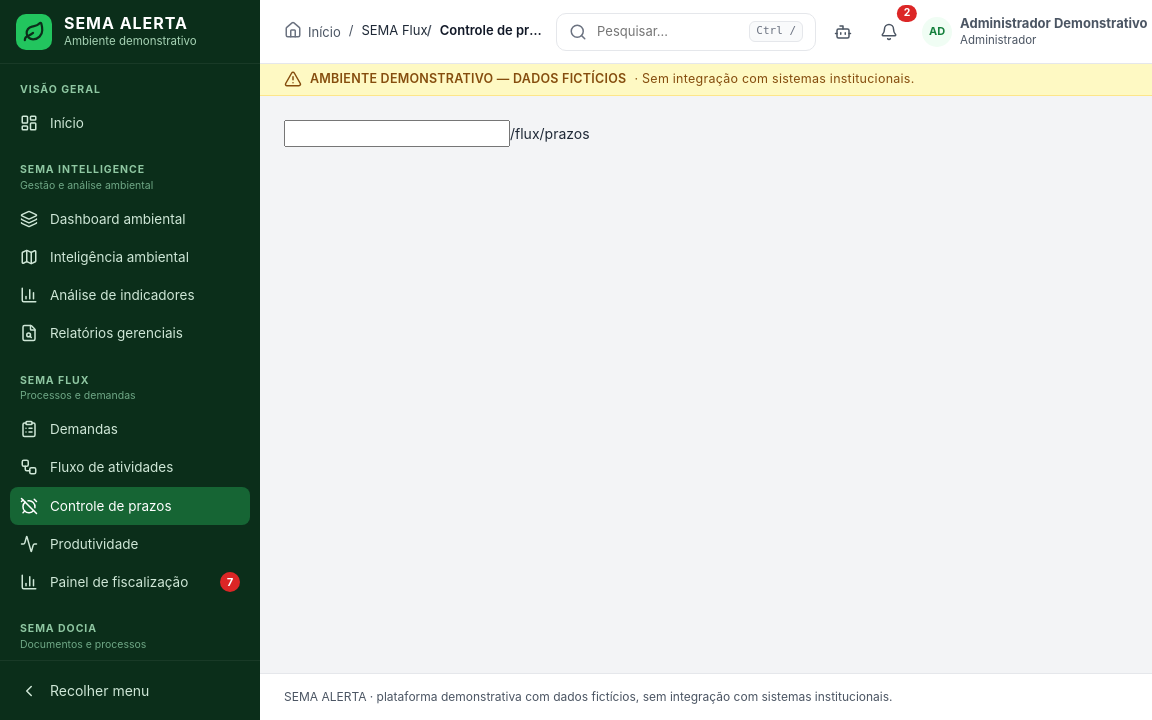
Test case: Assistente Global › fechar a gaveta aborta a requisição em andamento
The image size is (1152, 720).
Type keys "{Control>}k{/Control}"
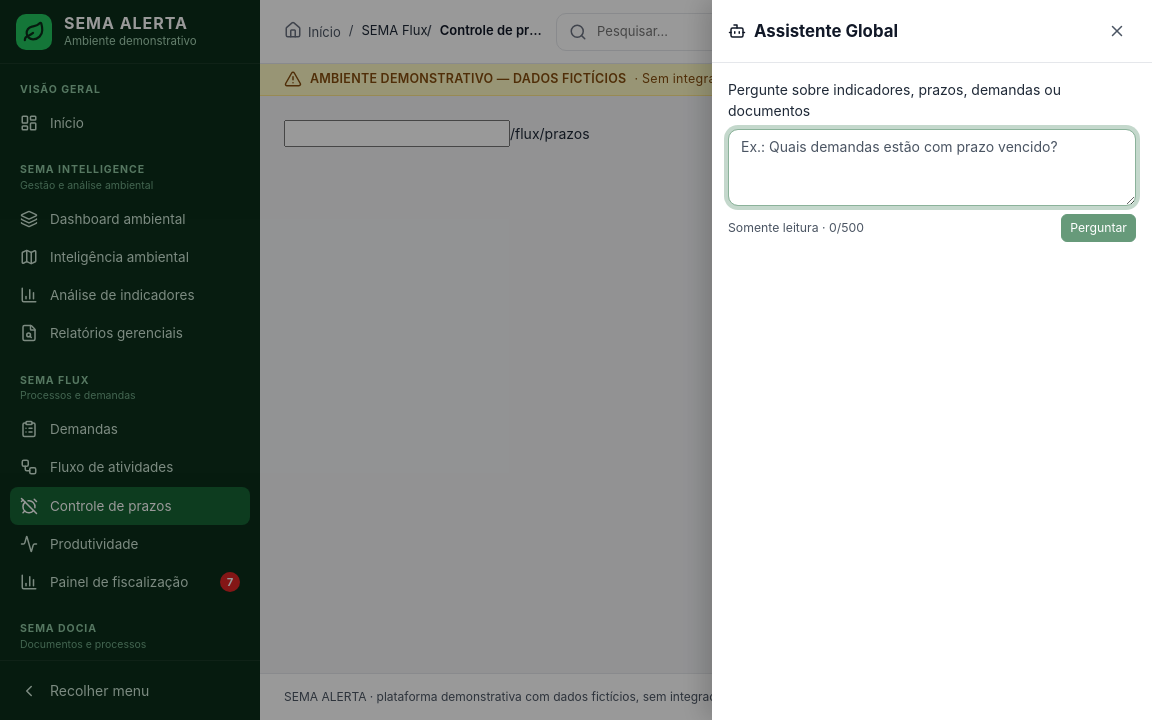
Type "lento" into the text box labelled "Pergunte sobre indicadores, prazos, demandas ou documentos".
click(932, 168); type("lento")  # box [728,129,1136,206]
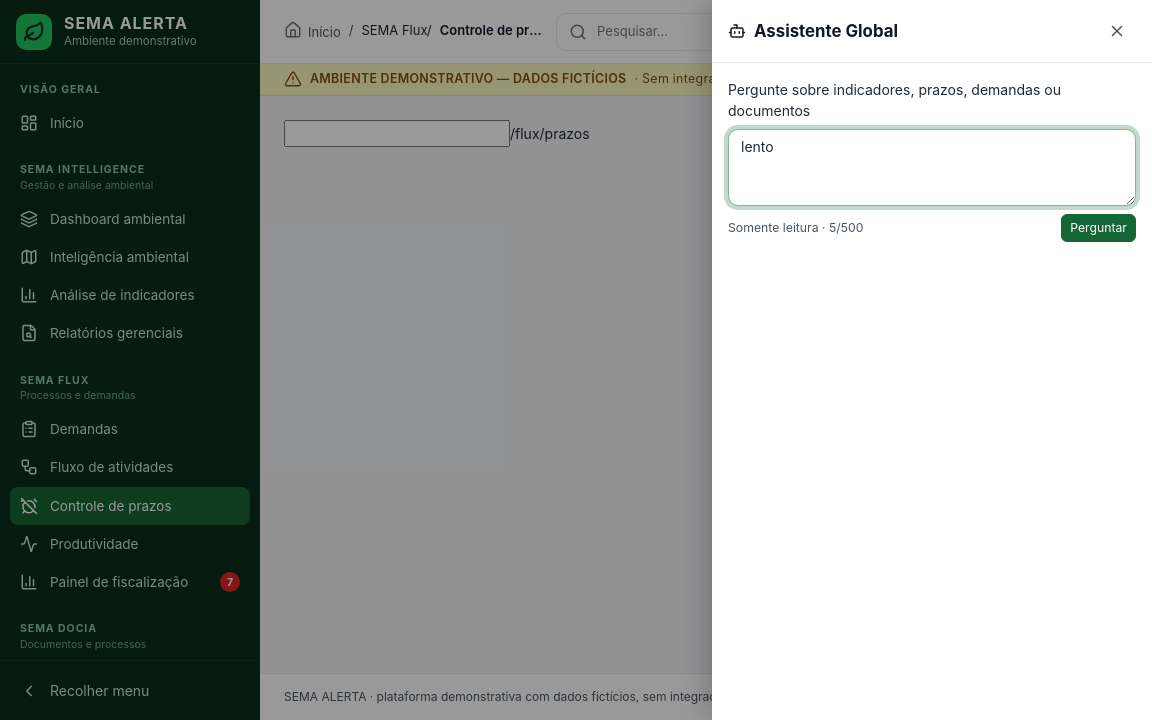
Click the button "Perguntar".
click(1099, 228)  # box [1061,214,1136,242]
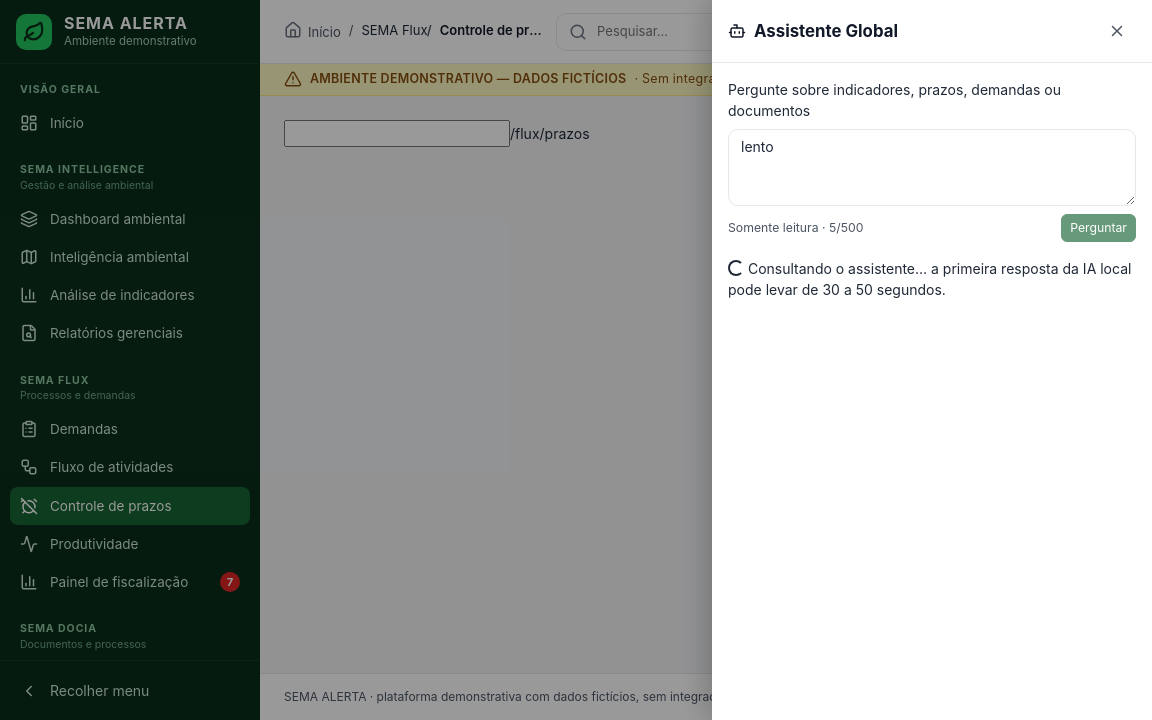
Now the text "30 a 50 segundos" is shown, box [728,260,1131,298]
Press Escape
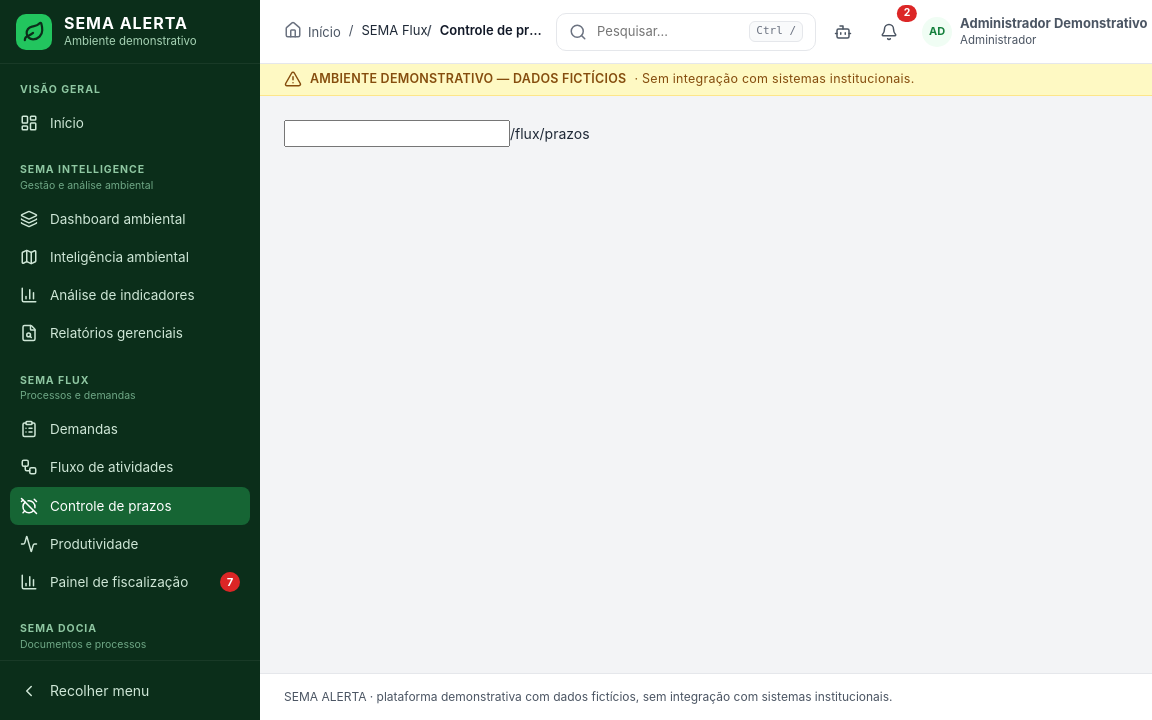
Now the heading "Assistente Global" is gone
